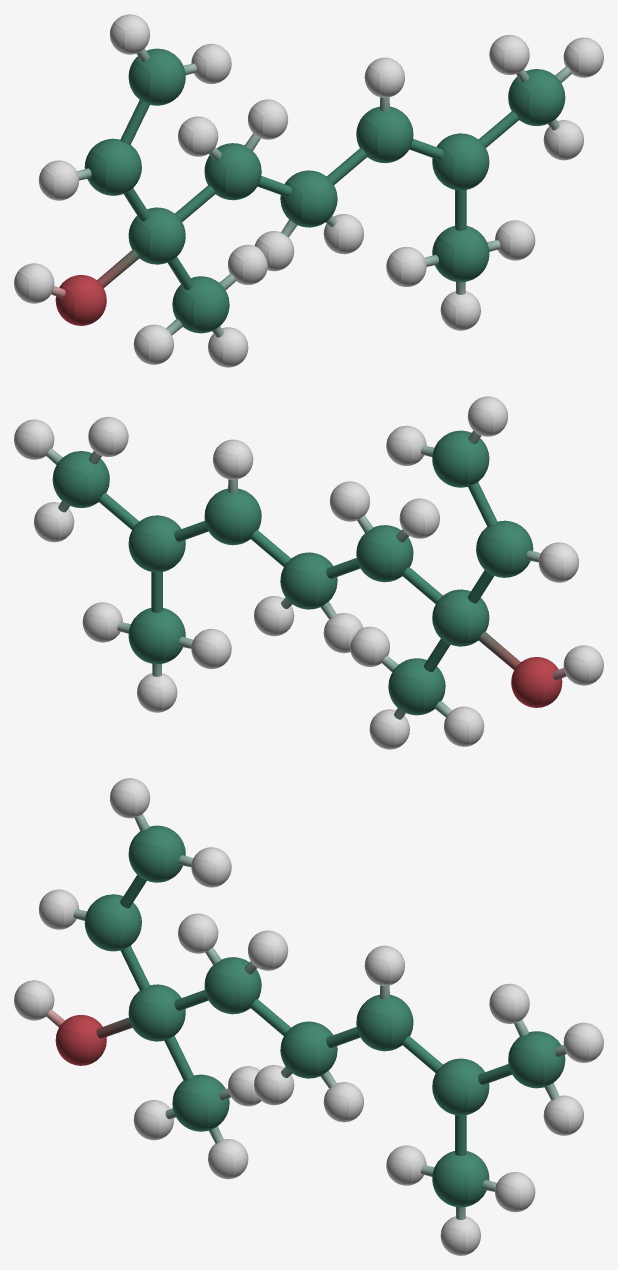
Rendered from Linalool.fbx.
3 renders of one model, top to bottom at view 1: azimuth 30°, elevation 25°; view 2: azimuth 150°, elevation 25°; view 3: azimuth 330°, elevation 25°, orthographic.
Parts seen in each view (by area): view 1: curMeshHyperballExportedMesh; view 2: curMeshHyperballExportedMesh; view 3: curMeshHyperballExportedMesh.
Boxes of the visible parts, x1=… form: curMeshHyperballExportedMesh: x1=14, y1=14, x2=603, y2=367; curMeshHyperballExportedMesh: x1=14, y1=396, x2=603, y2=749; curMeshHyperballExportedMesh: x1=14, y1=778, x2=603, y2=1255.
Bounding box in the file's own units: 6.67 × 4.29 × 0.5667.
